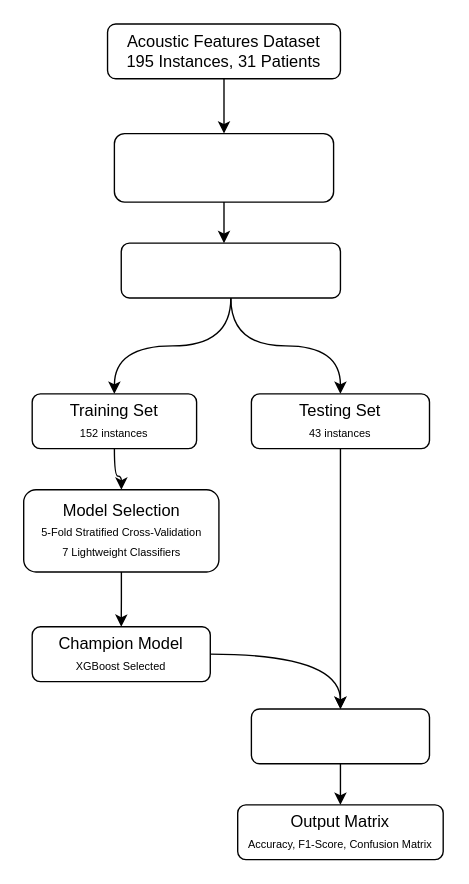
The diagram is 469 pixels wide and 884 high, and some of its shapes have lost their labels. The centre of each missing label's shape, as x and y in pixels:
"Data PreProcessing Extract Patient IDs, Target Flattening" goes at point (223, 167).
"Final Evaluation Test XGBoost on 20% Test Data" goes at point (339, 736).
"Strict Group-Aware Split GroupShuffleSplit by Patient ID" goes at point (230, 270).
